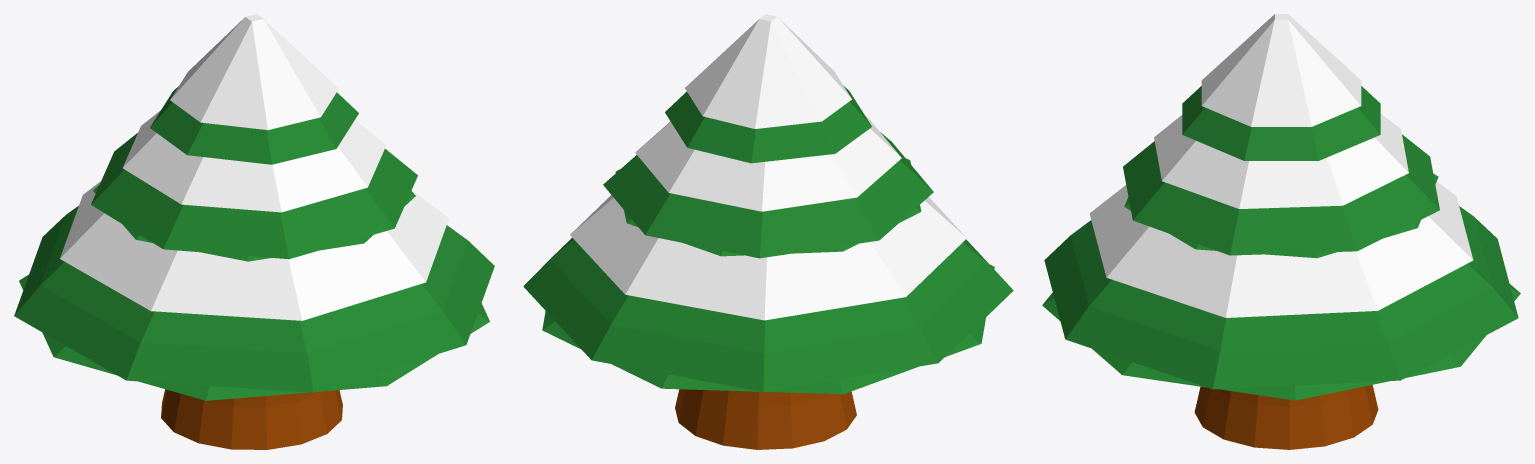
The model's file is tree6.fbx.
The picture shows the model from 3 angles, left to right: view 1: azimuth 30°, elevation 25°; view 2: azimuth 150°, elevation 25°; view 3: azimuth 270°, elevation 25°; orthographic projection.
Visible parts, largest first — view 1: Cube.005, Cube.004, Cube.003, Cube.006, Cube.007, Cube.002, Cube.001, Cube; view 2: Cube.005, Cube.004, Cube.003, Cube.006, Cube.007, Cube.002, Cube.001, Cube; view 3: Cube.005, Cube.004, Cube.003, Cube.006, Cube.007, Cube.002, Cube.001, Cube.
Part boxes in pixels (x1=…): Cube.005: x1=14, y1=206, x2=494, y2=392; Cube.004: x1=60, y1=181, x2=448, y2=320; Cube.003: x1=91, y1=133, x2=417, y2=261; Cube.006: x1=122, y1=110, x2=386, y2=212; Cube.007: x1=170, y1=14, x2=338, y2=129; Cube.002: x1=161, y1=389, x2=342, y2=449; Cube.001: x1=150, y1=86, x2=358, y2=164; Cube: x1=19, y1=274, x2=489, y2=400; Cube.005: x1=523, y1=237, x2=1013, y2=392; Cube.004: x1=570, y1=195, x2=966, y2=320; Cube.003: x1=603, y1=132, x2=933, y2=258; Cube.006: x1=635, y1=115, x2=901, y2=211; Cube.007: x1=685, y1=14, x2=851, y2=128; Cube.002: x1=675, y1=389, x2=856, y2=449; Cube.001: x1=665, y1=85, x2=871, y2=163; Cube: x1=542, y1=253, x2=994, y2=394; Cube.005: x1=1044, y1=206, x2=1518, y2=389; Cube.004: x1=1089, y1=181, x2=1473, y2=317; Cube.003: x1=1123, y1=134, x2=1439, y2=258; Cube.006: x1=1154, y1=113, x2=1408, y2=208; Cube.007: x1=1201, y1=14, x2=1361, y2=126; Cube.002: x1=1194, y1=385, x2=1378, y2=449; Cube.001: x1=1182, y1=86, x2=1380, y2=160; Cube: x1=1042, y1=283, x2=1520, y2=400.
Size of the model in its own units: 236 by 215 by 236.
